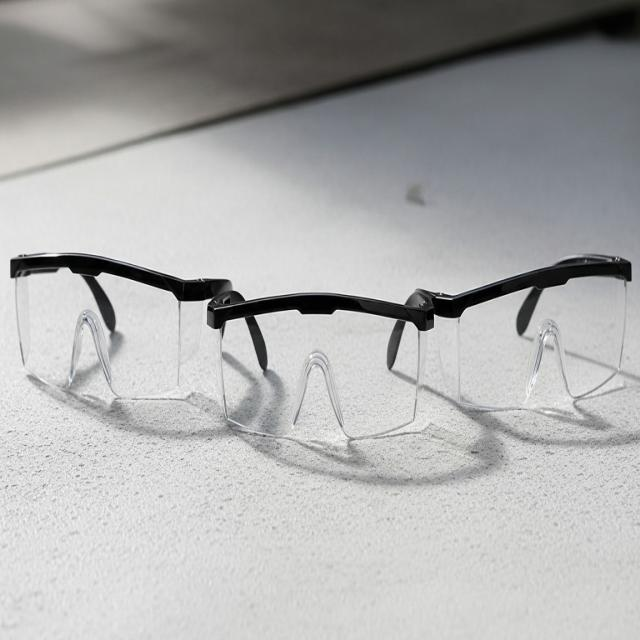oculos-epi: (10, 252, 233, 398), (433, 254, 631, 409), (214, 310, 426, 438)
